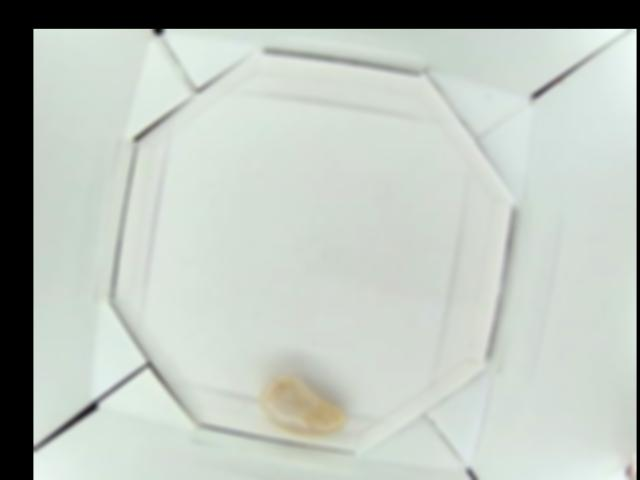Pebble: (257, 377, 347, 435)
